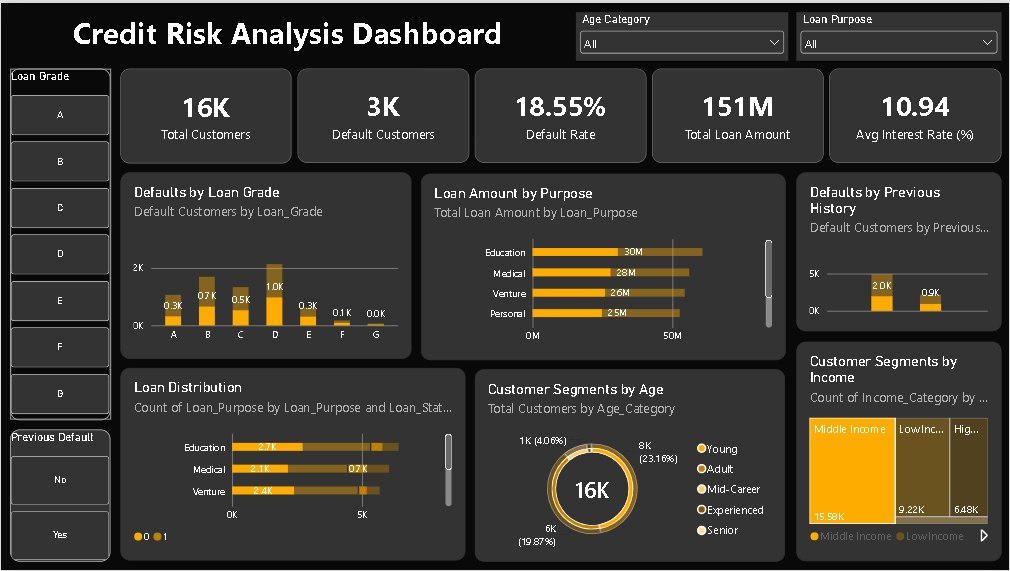

The page's visual inventory and layout, read from the dashboard file:
{"tool":"powerbi","page":{"name":"Page 1","canvas":[1280,720],"ordinal":0},"visuals":[{"type":"cardVisual","fields":{"Data":["Loan_Data.Default Rate (%)"]},"box":[601.2,83.9,218,119.8],"z":0},{"type":"cardVisual","fields":{"Data":["Loan_Data.Total Customers"]},"box":[151.8,83.4,217.5,120.4],"z":1000},{"type":"cardVisual","fields":{"Data":["Loan_Data.Default Customers"]},"box":[376.2,83.9,218,119.8],"z":2000},{"type":"cardVisual","fields":{"Data":["Loan_Data.Total Loan Amount"]},"box":[826.2,83.9,218,119.8],"z":3000},{"type":"cardVisual","fields":{"Data":["Loan_Data.Average Interest Rate"]},"box":[1051.2,83.9,218.6,119.8],"z":4000},{"type":"clusteredColumnChart","title":"Defaults by Loan Grade","fields":{"Category":["Loan_Data.Loan_Grade"],"Y":["Loan_Data.Default Customers"]},"box":[151.2,215.6,369.9,236.6],"z":5000},{"type":"clusteredBarChart","title":"Loan Amount by Purpose","fields":{"Category":["Loan_Data.Loan_Purpose"],"Y":["Loan_Data.Total Loan Amount"]},"box":[533.4,216.1,463,236.6],"z":6000},{"type":"donutChart","title":"Customer Segments by Age","fields":{"Category":["Loan_Data.Age_Category"],"Y":["Loan_Data.Total Customers"]},"box":[601.8,465.1,393.9,244.8],"z":7000},{"type":"clusteredColumnChart","title":"Defaults by Previous History","fields":{"Category":["Loan_Data.Previous_Default"],"Y":["Loan_Data.Default Customers"]},"box":[1009.3,215.6,260.6,202.2],"z":8000},{"type":"advancedSlicerVisual","title":"Loan Grade","fields":{"Values":["Loan_Data.Loan_Grade"]},"box":[12,83.9,127.3,446.2],"z":9000},{"type":"treemap","title":"Customer Segments by Income","fields":{"Group":["Loan_Data.Income_Category"],"Values":["CountNonNull(Loan_Data.Income_Category)"]},"box":[1009.3,429.8,260.6,278.5],"z":10000},{"type":"advancedSlicerVisual","title":"Previous Default","fields":{"Values":["Loan_Data.Previous_Default"]},"box":[12,542.1,127.3,167.7],"z":11000},{"type":"textbox","box":[12,12,703.8,60],"z":12000},{"type":"slicer","fields":{"Values":["Loan_Data.Age_Category"]},"box":[729.2,12,269.5,61.4],"z":13000},{"type":"slicer","fields":{"Values":["Loan_Data.Loan_Purpose"]},"box":[1009.3,12,260.6,61.4],"z":14000},{"type":"barChart","title":"Loan Distribution","fields":{"Category":["Loan_Data.Loan_Purpose"],"Series":["Loan_Data.Loan_Status"],"Y":["CountNonNull(Loan_Data.Loan_Purpose)"]},"box":[151.8,463.7,438,244.8],"z":15000}]}

Visuals, with their boxes in screenshot pixels (x1, y1, x2, y2), scaled from the page's 1280x720 canvas onto the 1010x571 screenshot:
cardVisual - Loan_Data.Default Rate (%): rect(474, 67, 646, 162)
cardVisual - Loan_Data.Total Customers: rect(120, 66, 291, 162)
cardVisual - Loan_Data.Default Customers: rect(297, 67, 469, 162)
cardVisual - Loan_Data.Total Loan Amount: rect(652, 67, 824, 162)
cardVisual - Loan_Data.Average Interest Rate: rect(829, 67, 1002, 162)
"Defaults by Loan Grade" clusteredColumnChart: rect(119, 171, 411, 359)
"Loan Amount by Purpose" clusteredBarChart: rect(421, 171, 786, 359)
"Customer Segments by Age" donutChart: rect(475, 369, 786, 563)
"Defaults by Previous History" clusteredColumnChart: rect(796, 171, 1002, 331)
"Loan Grade" advancedSlicerVisual: rect(9, 67, 110, 420)
"Customer Segments by Income" treemap: rect(796, 341, 1002, 562)
"Previous Default" advancedSlicerVisual: rect(9, 430, 110, 563)
textbox: rect(9, 10, 565, 57)
slicer - Loan_Data.Age_Category: rect(575, 10, 788, 58)
slicer - Loan_Data.Loan_Purpose: rect(796, 10, 1002, 58)
"Loan Distribution" barChart: rect(120, 368, 465, 562)
